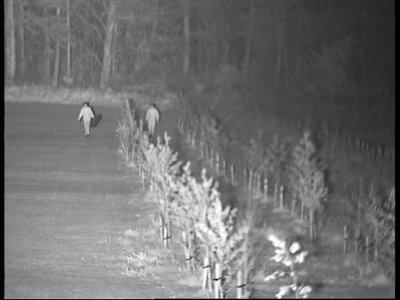person: (73, 92, 104, 139), (141, 96, 165, 144)
